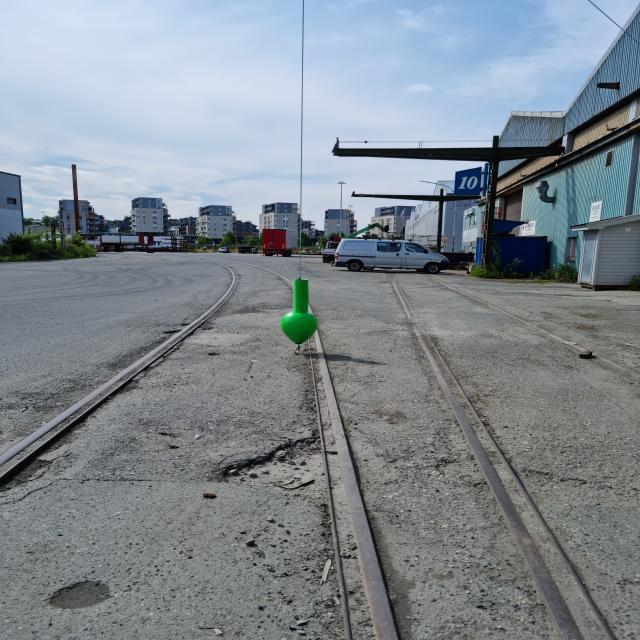green: (280, 279, 318, 343)
